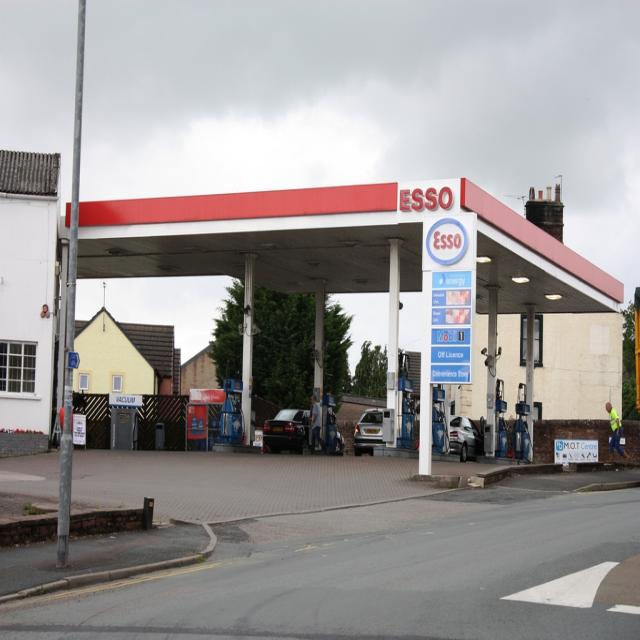esso: (424, 216, 469, 269)
